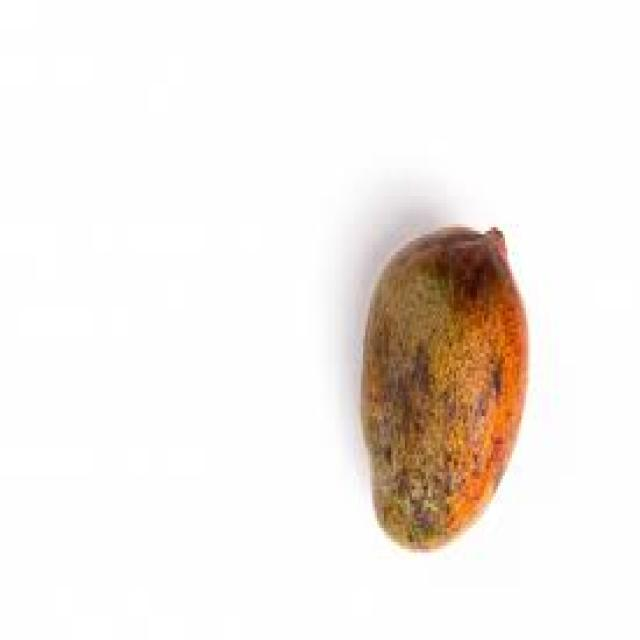food_waste: (361, 227, 526, 546)
